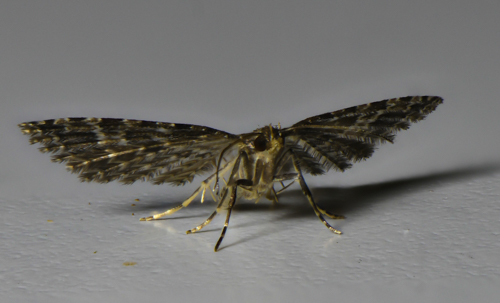Alucitidae: (9, 82, 444, 252)
moth: (7, 80, 442, 250)
